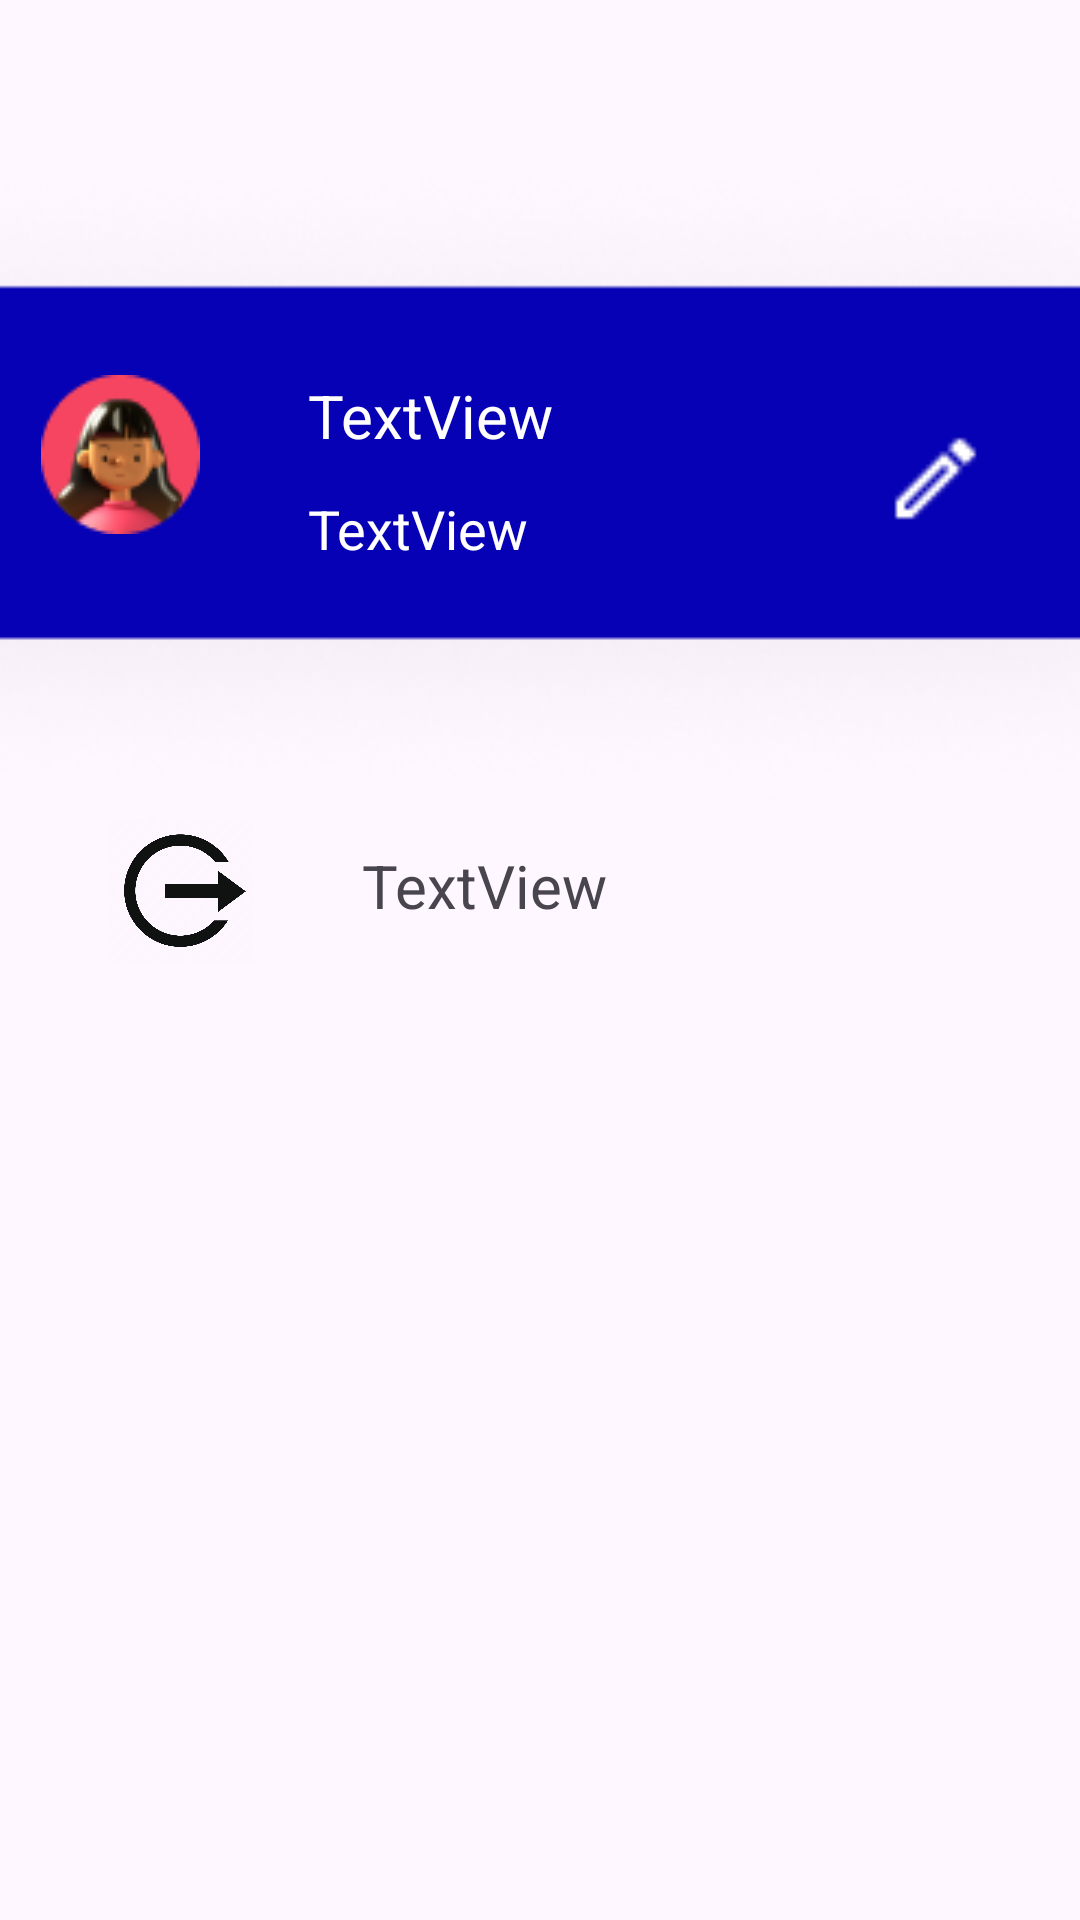

Screen size 1080w x 1920h. Icon name, then its box in pixels as bbox(x1, y1, x2, y2):
mode edit: bbox(894, 437, 977, 520)
user: bbox(41, 375, 200, 534)
